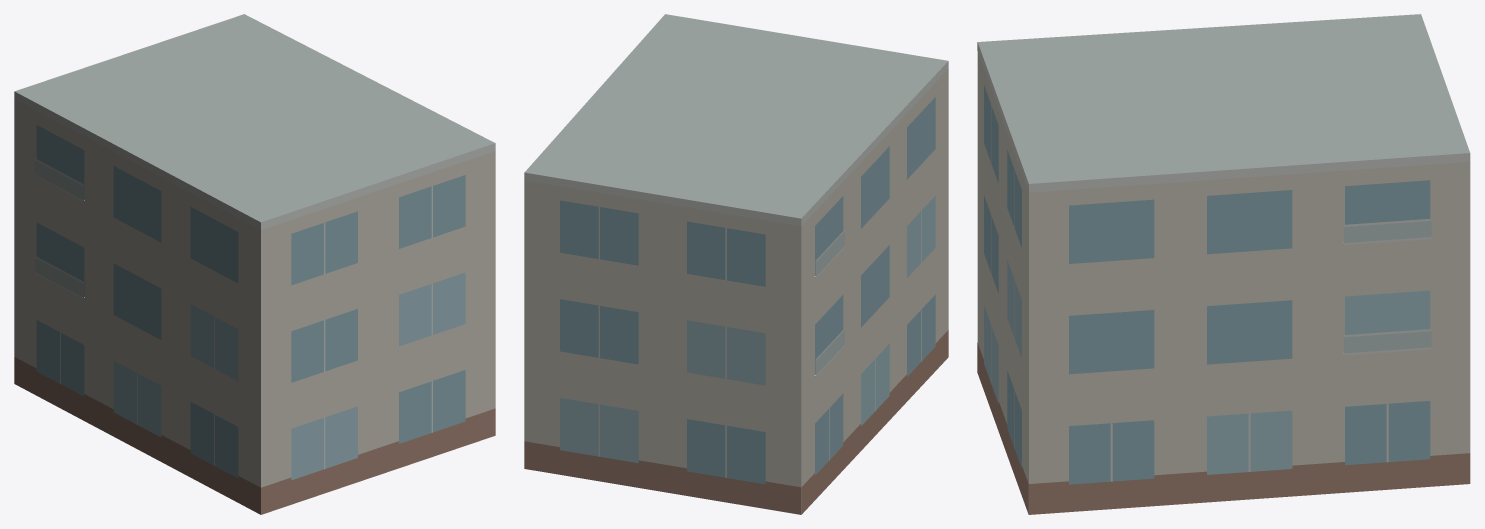
File: survey-upis-32622356.glb
The picture shows the model from 3 angles, left to right: view 1: azimuth 30°, elevation 25°; view 2: azimuth 150°, elevation 25°; view 3: azimuth 270°, elevation 25°; orthographic projection. The views are drawn at different scales.
Parts seen in each view (by area): view 1: survey-upis-32622356.tmp; view 2: survey-upis-32622356.tmp; view 3: survey-upis-32622356.tmp.
Part boxes in pixels (x1=…): survey-upis-32622356.tmp: x1=14, y1=14, x2=495, y2=514; survey-upis-32622356.tmp: x1=524, y1=14, x2=948, y2=514; survey-upis-32622356.tmp: x1=977, y1=14, x2=1470, y2=514.
Bounding box in the file's own units: 10.09 × 9.15 × 12.36.
